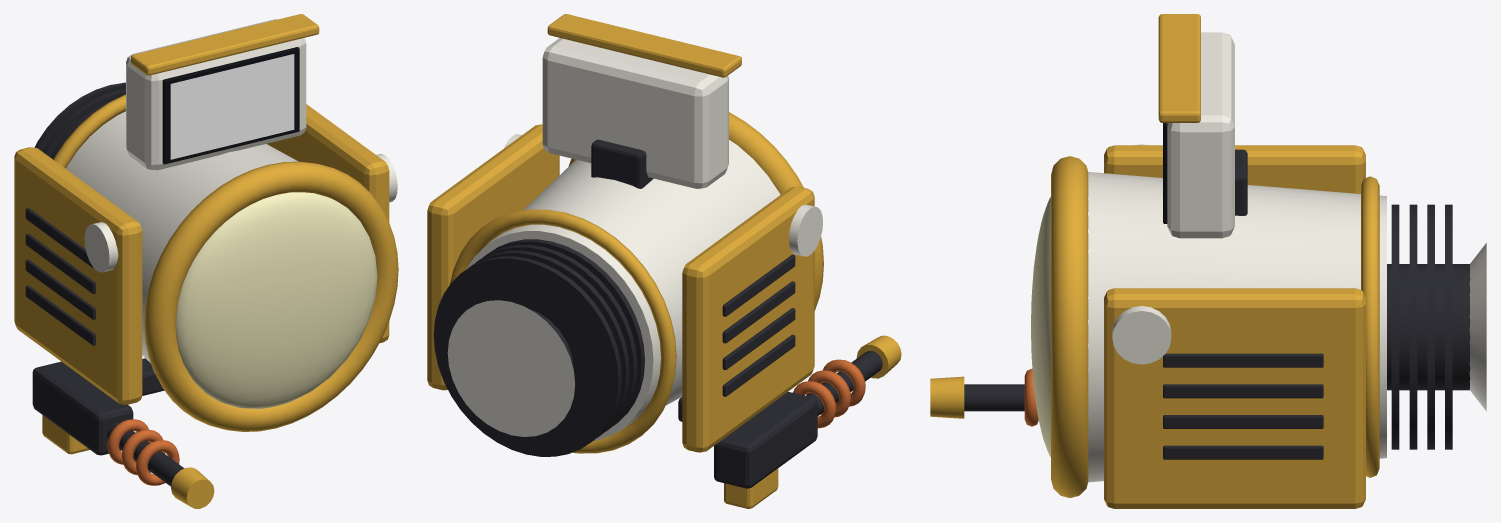
Rendered from spotlight.fbx.
3 renders of one model, left to right at view 1: azimuth 30°, elevation 25°; view 2: azimuth 150°, elevation 25°; view 3: azimuth 270°, elevation 25°, orthographic. The views are drawn at different scales.
Parts seen in each view (by area): view 1: Drum, WeakPoint, Plate_housing-right, Visor, Rifle, Face, Plate_housing-left; view 2: Drum, Visor, Plate_housing-right, Rifle, Plate_housing-left; view 3: Drum, Plate_housing-left, Visor, Plate_housing-right, WeakPoint, Rifle.
Boxes of the visible parts, x1=… form: Drum: x1=34, y1=82, x2=398, y2=431; WeakPoint: x1=175, y1=192, x2=377, y2=408; Plate_housing-right: x1=14, y1=147, x2=142, y2=404; Visor: x1=126, y1=14, x2=319, y2=170; Rifle: x1=32, y1=358, x2=214, y2=508; Face: x1=170, y1=54, x2=294, y2=159; Plate_housing-left: x1=266, y1=104, x2=397, y2=343; Drum: x1=433, y1=112, x2=823, y2=456; Visor: x1=542, y1=14, x2=741, y2=188; Plate_housing-right: x1=682, y1=186, x2=822, y2=452; Rifle: x1=678, y1=335, x2=901, y2=508; Plate_housing-left: x1=427, y1=124, x2=559, y2=390; Drum: x1=1051, y1=156, x2=1486, y2=497; Plate_housing-left: x1=1104, y1=288, x2=1365, y2=508; Visor: x1=1158, y1=14, x2=1247, y2=238; Plate_housing-right: x1=1104, y1=144, x2=1365, y2=193; WeakPoint: x1=1031, y1=197, x2=1050, y2=457; Rifle: x1=930, y1=369, x2=1038, y2=426.
Bounding box in the file's own units: 0.956 × 1.21 × 1.32.
